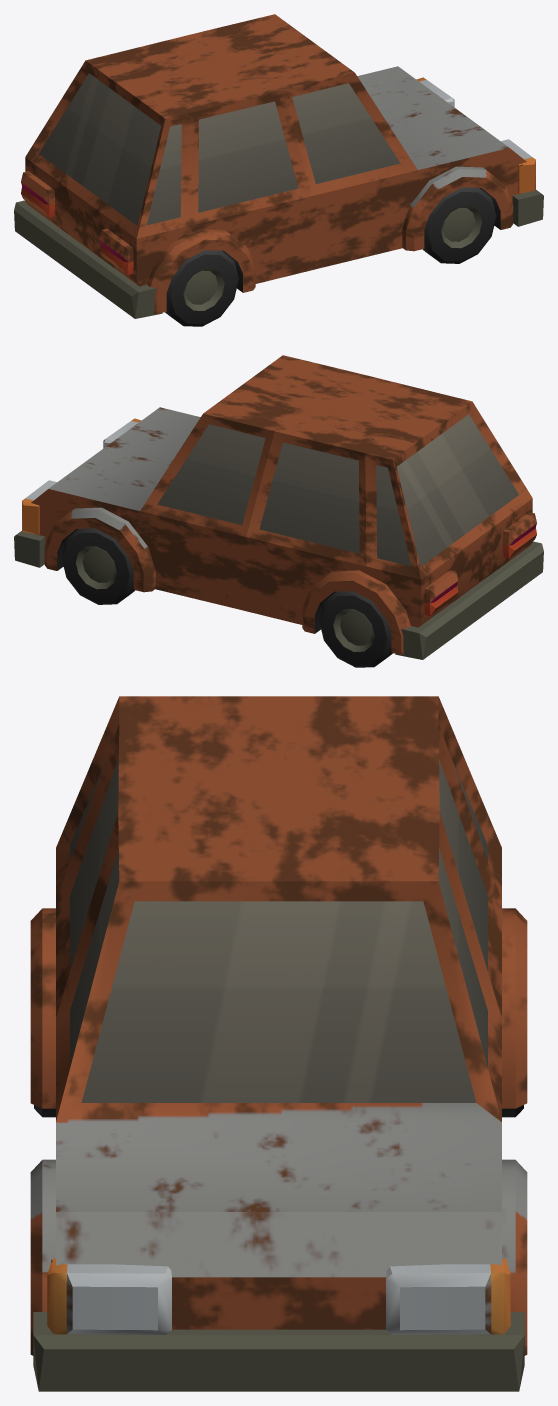
Rendered from RustyHatchback.fbx.
3 views of the same model, one above another, from view 1: azimuth 30°, elevation 25°; view 2: azimuth 150°, elevation 25°; view 3: azimuth 270°, elevation 25° (orthographic). The views are drawn at different scales.
Parts seen in each view (by area): view 1: Body, Wheel_RR, Wheel_FR; view 2: Body, Wheel_RL, Wheel_FL; view 3: Body.
Part boxes in pixels (x1=…): Body: x1=14, y1=14, x2=543, y2=318; Wheel_RR: x1=165, y1=250, x2=238, y2=326; Wheel_FR: x1=423, y1=187, x2=496, y2=263; Body: x1=14, y1=355, x2=543, y2=659; Wheel_RL: x1=319, y1=591, x2=392, y2=667; Wheel_FL: x1=61, y1=528, x2=134, y2=604; Body: x1=30, y1=696, x2=527, y2=1391.
Bounding box in the file's own units: 6.6 × 3.02 × 3.43.
Materials: 5 (5 with a texture image).
